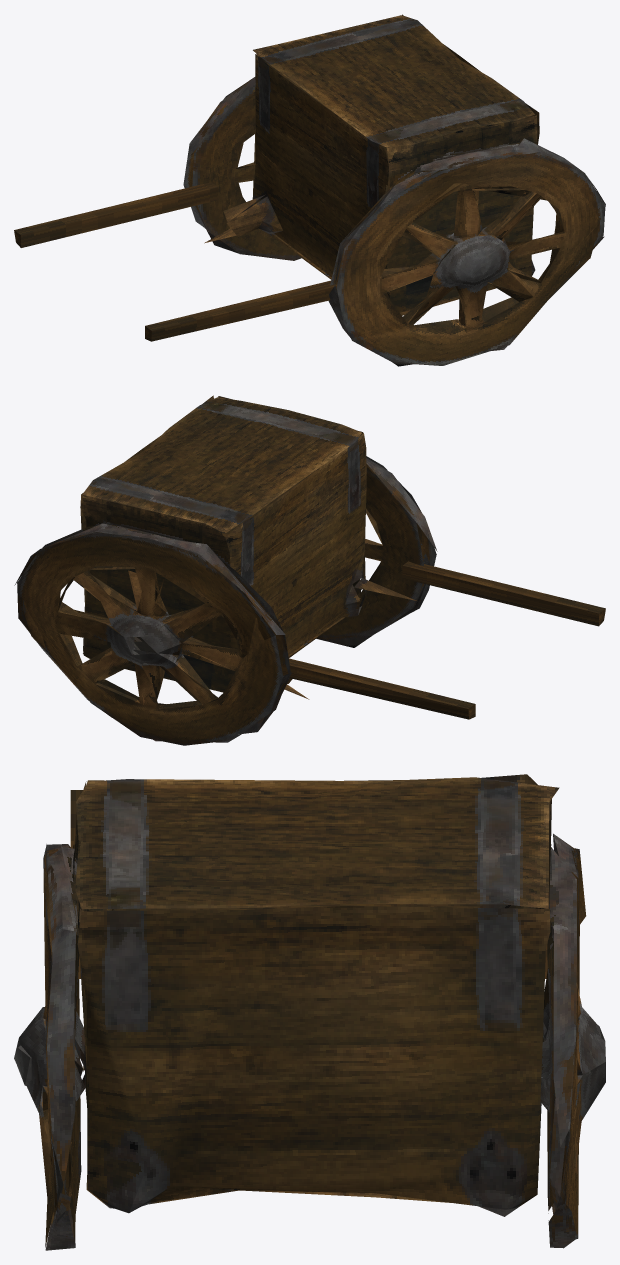
The model's file is handcart.glb.
3 views of the same model, one above another, from view 1: azimuth 30°, elevation 25°; view 2: azimuth 150°, elevation 25°; view 3: azimuth 270°, elevation 25° (orthographic). The views are drawn at different scales.
Parts seen in each view (by area): view 1: remodel; view 2: remodel; view 3: remodel.
Part boxes in pixels (left/top/right/bottom): remodel: left=14, top=14, right=605, bottom=366; remodel: left=14, top=395, right=605, bottom=745; remodel: left=14, top=774, right=605, bottom=1250.
Size of the model in its own units: 3.67 by 1.77 by 2.4.
Materials: 1 (1 with a texture image).
